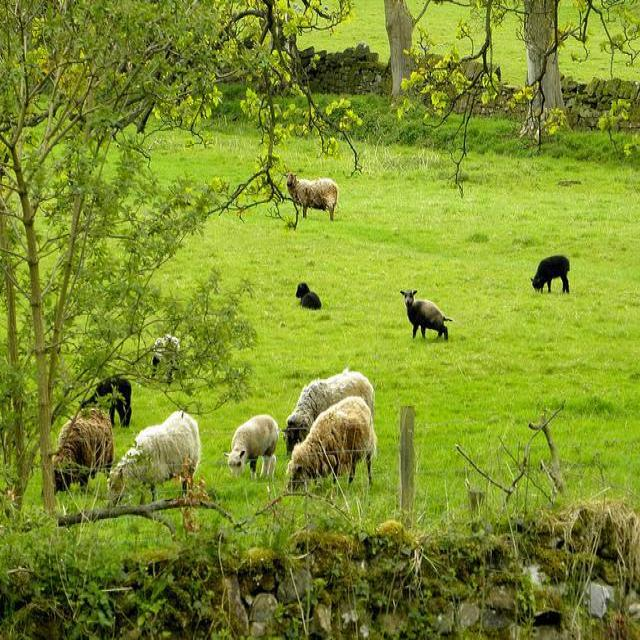Sheep: (107, 409, 200, 509), (282, 365, 378, 459), (286, 396, 379, 493), (52, 407, 113, 495), (224, 414, 280, 482), (78, 378, 132, 429), (400, 290, 453, 340), (286, 172, 338, 221)
